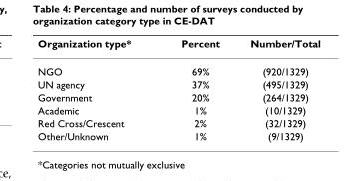table: (37, 36, 319, 141)
table column: (37, 36, 155, 141), (234, 36, 319, 141), (155, 36, 234, 141)
table column header: (37, 36, 319, 57)
table row: (37, 36, 319, 57), (37, 57, 319, 77), (37, 77, 319, 90), (37, 90, 319, 103), (37, 103, 319, 116), (37, 116, 319, 129), (37, 129, 319, 141)
